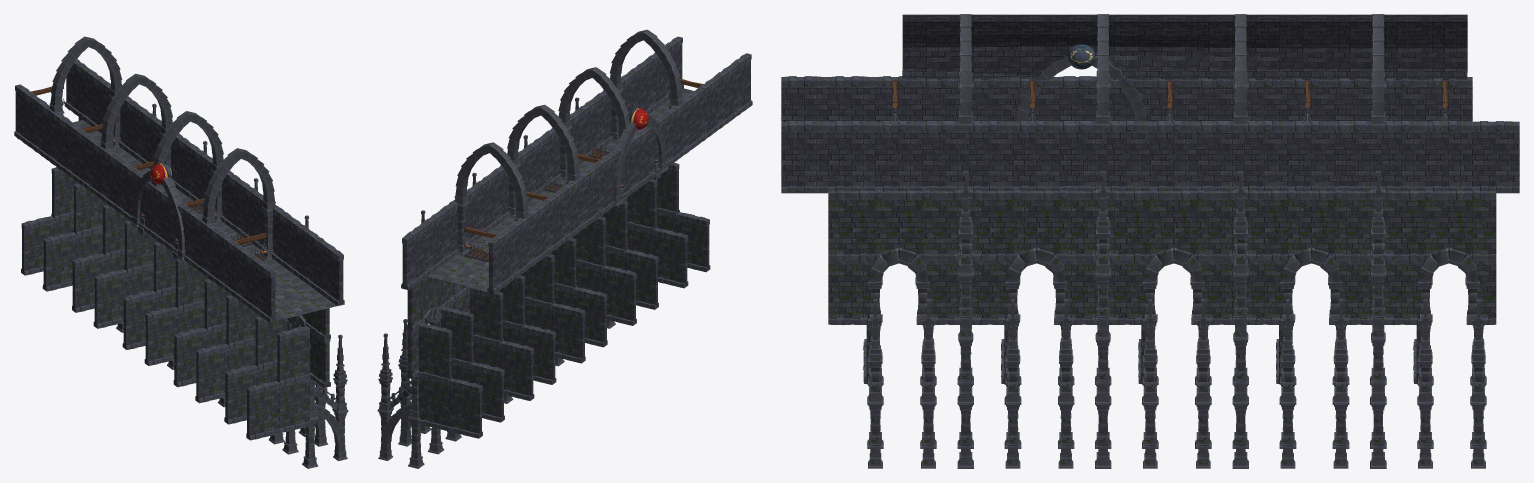
File: Passage.gltf
The picture shows the model from 3 angles, left to right: view 1: azimuth 30°, elevation 25°; view 2: azimuth 150°, elevation 25°; view 3: azimuth 270°, elevation 25°; orthographic projection. The views are drawn at different scales.
Visible parts, largest first — view 1: P_MOD_Wall_01_M_straight_large (×54), Floor (1) (×2), P_MOD_Wall_01_M_straight_large_half_R; view 2: P_MOD_Wall_01_M_straight_large (×55), Floor (1), P_MOD_Wall_01_M_straight_large_half_R; view 3: P_MOD_Wall_01_M_straight_large (×46), P_MOD_Wall_01_M_straight_large_half_R (×28), Plane (1), Plane (2), Plane (3), P_MOD_Gateway_Arc_01 (×5).
Boxes of the visible parts, left/top/right/bottom form: P_MOD_Wall_01_M_straight_large (×54): left=15, top=67, right=343, bottom=439; Floor (1) (×2): left=275, top=282, right=329, bottom=314; P_MOD_Wall_01_M_straight_large_half_R: left=317, top=337, right=329, bottom=387; P_MOD_Wall_01_M_straight_large (×55): left=402, top=43, right=750, bottom=437; Floor (1): left=435, top=265, right=482, bottom=285; P_MOD_Wall_01_M_straight_large_half_R: left=407, top=330, right=418, bottom=378; P_MOD_Wall_01_M_straight_large (×46): left=781, top=87, right=1519, bottom=254; P_MOD_Wall_01_M_straight_large_half_R (×28): left=828, top=199, right=1496, bottom=318; Plane (1): left=1278, top=14, right=1467, bottom=87; Plane (2): left=1091, top=14, right=1279, bottom=87; Plane (3): left=902, top=14, right=1090, bottom=87; P_MOD_Gateway_Arc_01 (×5): left=870, top=248, right=1477, bottom=281.
Bounding box in the file's own units: 15.58 × 38.08 × 62.67.
Materials: 10 (10 with a texture image).
